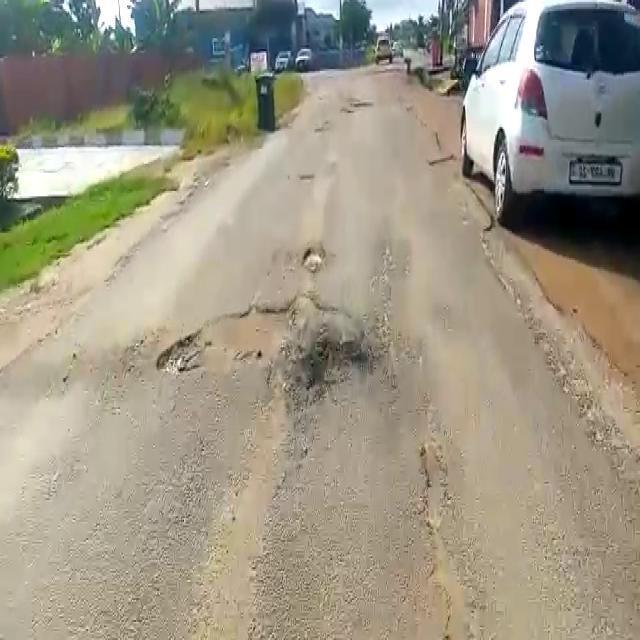pothole: (152, 296, 350, 389), (296, 246, 327, 272)
